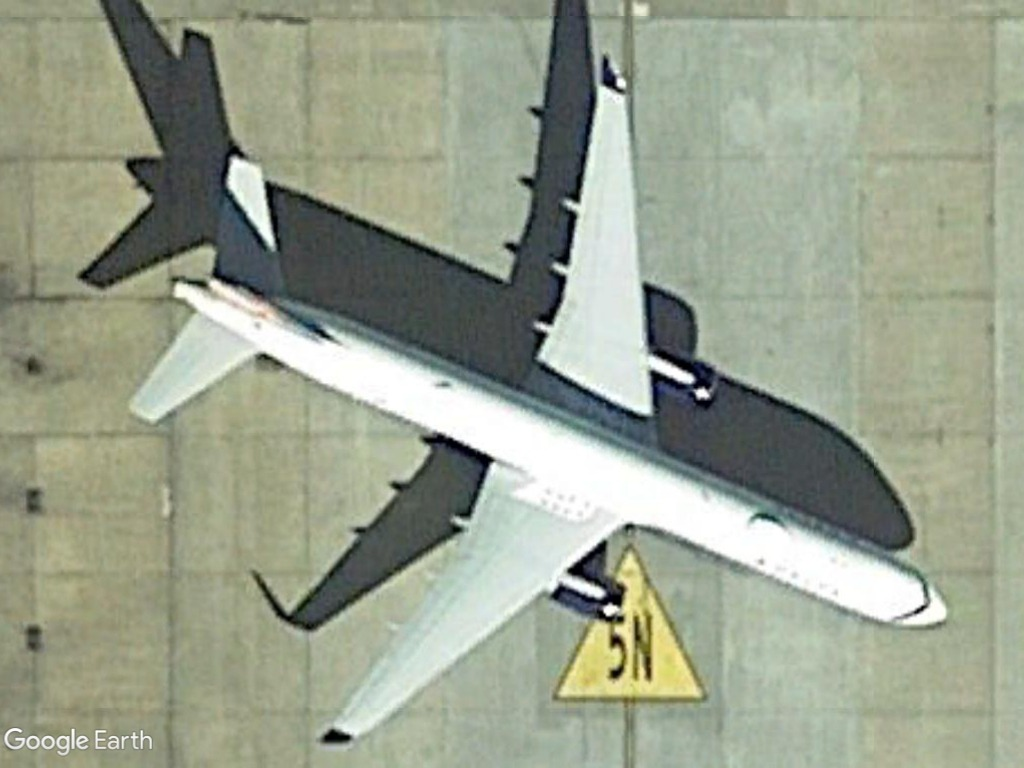airliner: (128, 50, 955, 746)
